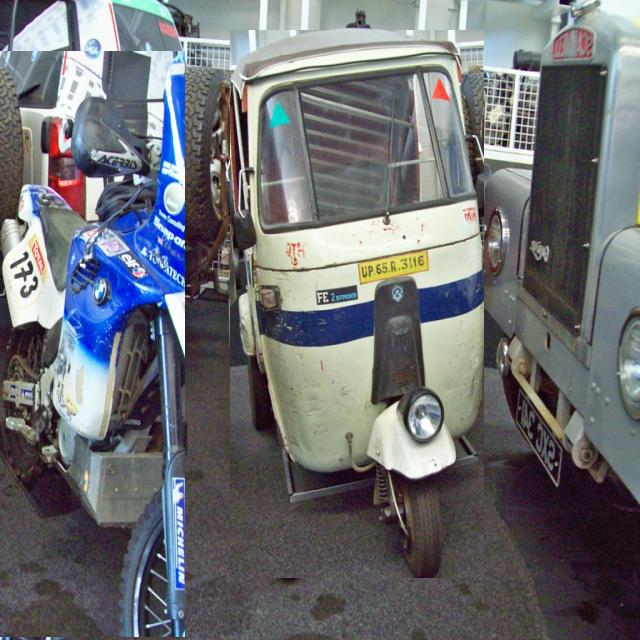autorickshaw: (230, 30, 484, 578)
motorcycle: (0, 51, 185, 637), (31, 99, 112, 178)
